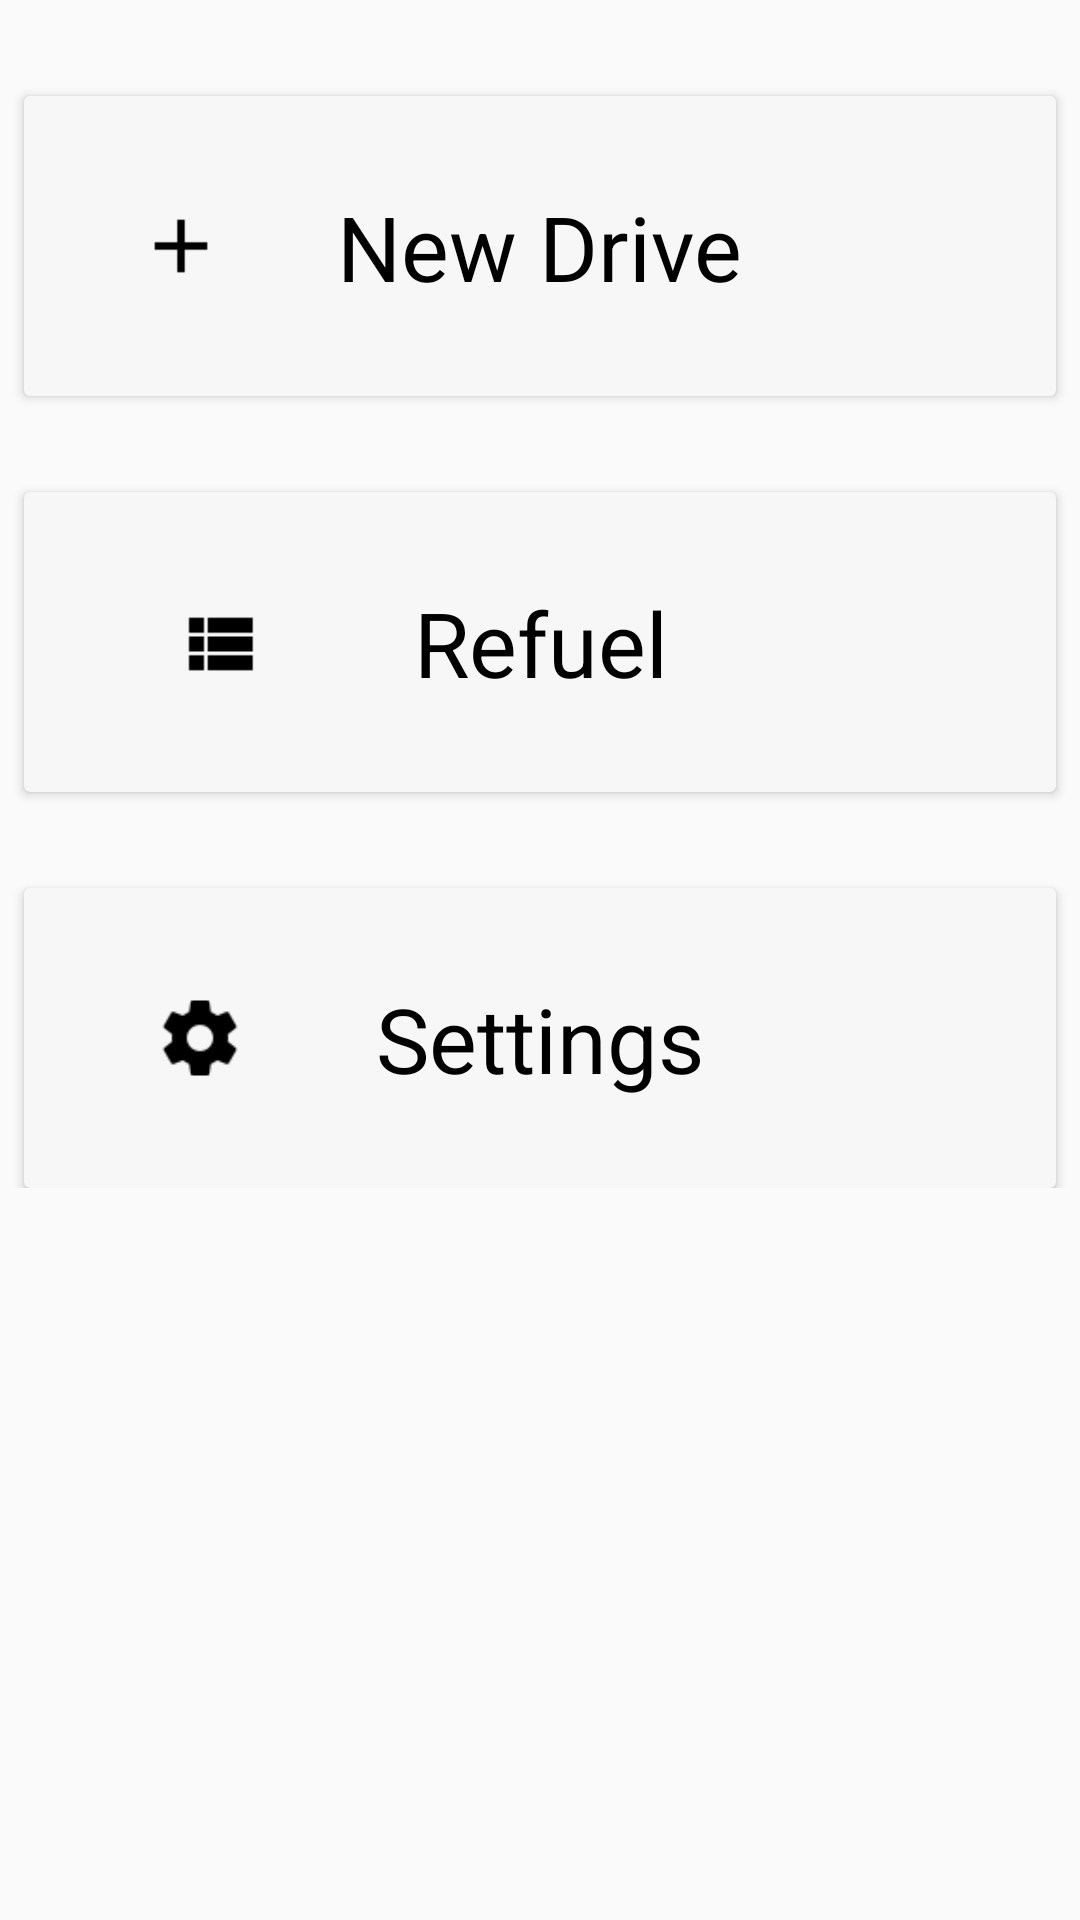

Named icons in this screenshot (1080px x 1920px) and their centers, [x,y]:
plus: [181,246]
viewlist: [221,644]
